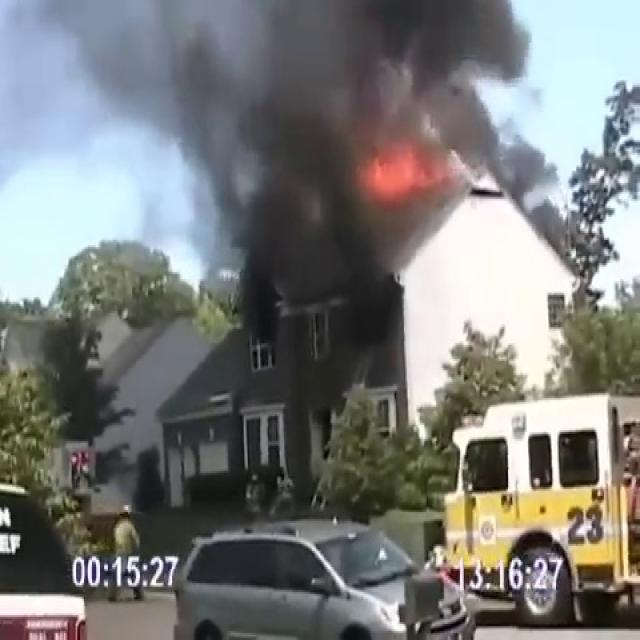Smoke: (8, 0, 604, 340), (207, 0, 592, 338)
